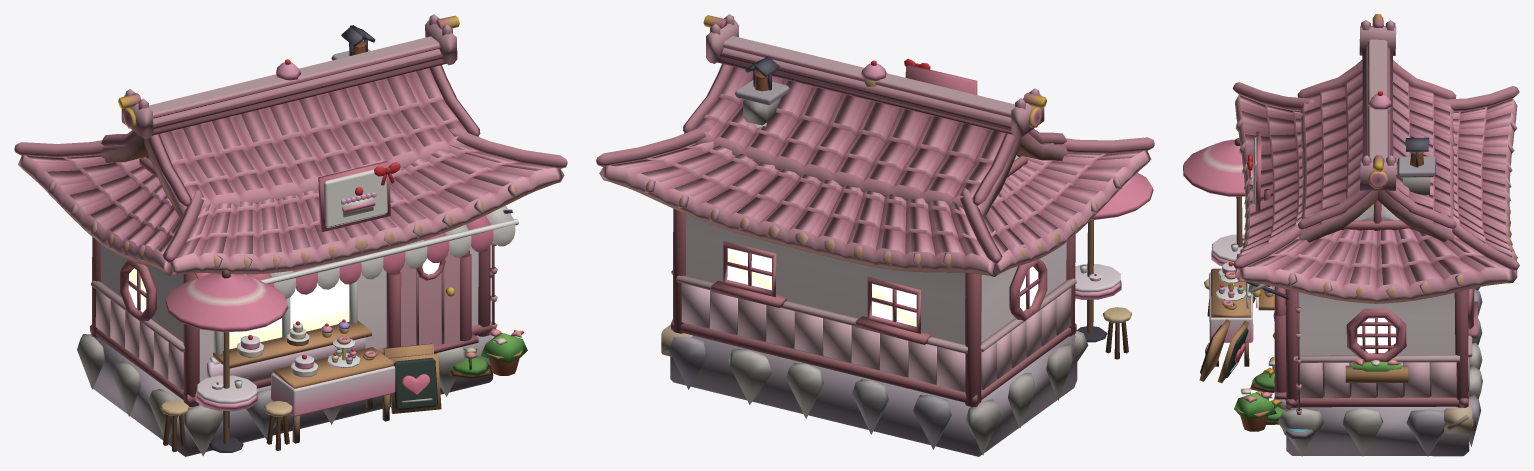
Rendered from rosieShop.glb.
3 views of the same model, side by side, from view 1: azimuth 30°, elevation 25°; view 2: azimuth 150°, elevation 25°; view 3: azimuth 270°, elevation 25° (orthographic). The views are drawn at different scales.
Parts seen in each view (by area): view 1: rosieShop, window_glow; view 2: rosieShop, window_glow; view 3: rosieShop, window_glow.
Boxes of the visible parts, x1,y1,x2,y2 form: rosieShop: [14, 14, 567, 456]; window_glow: [128, 258, 439, 350]; rosieShop: [596, 14, 1154, 456]; window_glow: [727, 248, 1038, 326]; rosieShop: [1183, 14, 1519, 456]; window_glow: [1357, 318, 1395, 353].
Bounding box in the file's own units: 4.5 × 3.49 × 3.55.
